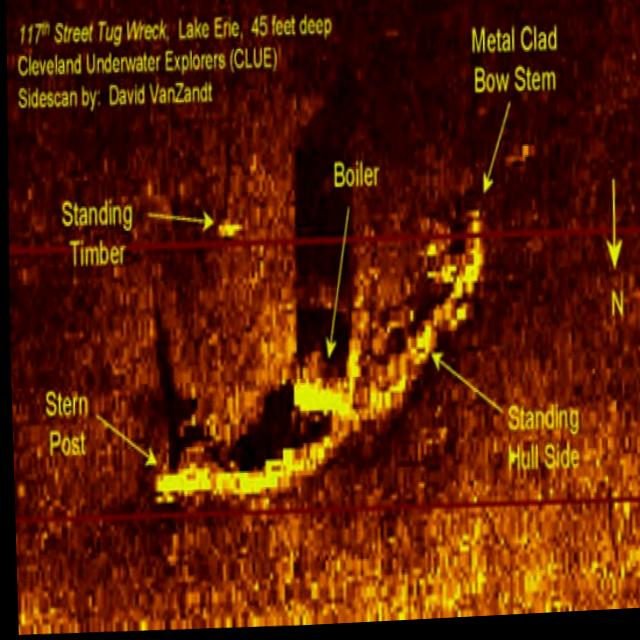shipwreck: (140, 205, 490, 520)
